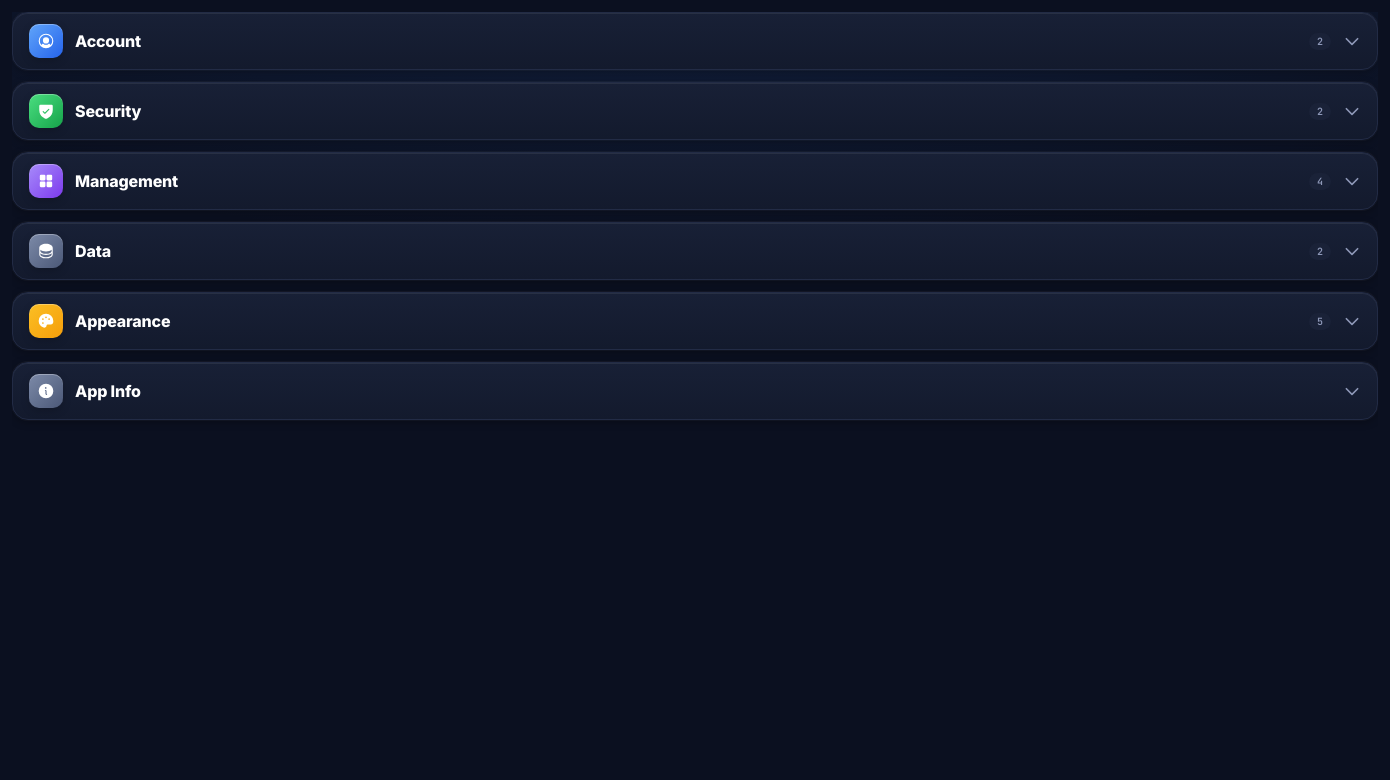
Pengaturan — grup Akun memakai nama zip › English memakai kamus en
What coordinates should you click on to do the following:
click the button "Account 2"
I would click on:
 (46, 41)
Its box is x1=12 y1=12 x2=1378 y2=70.
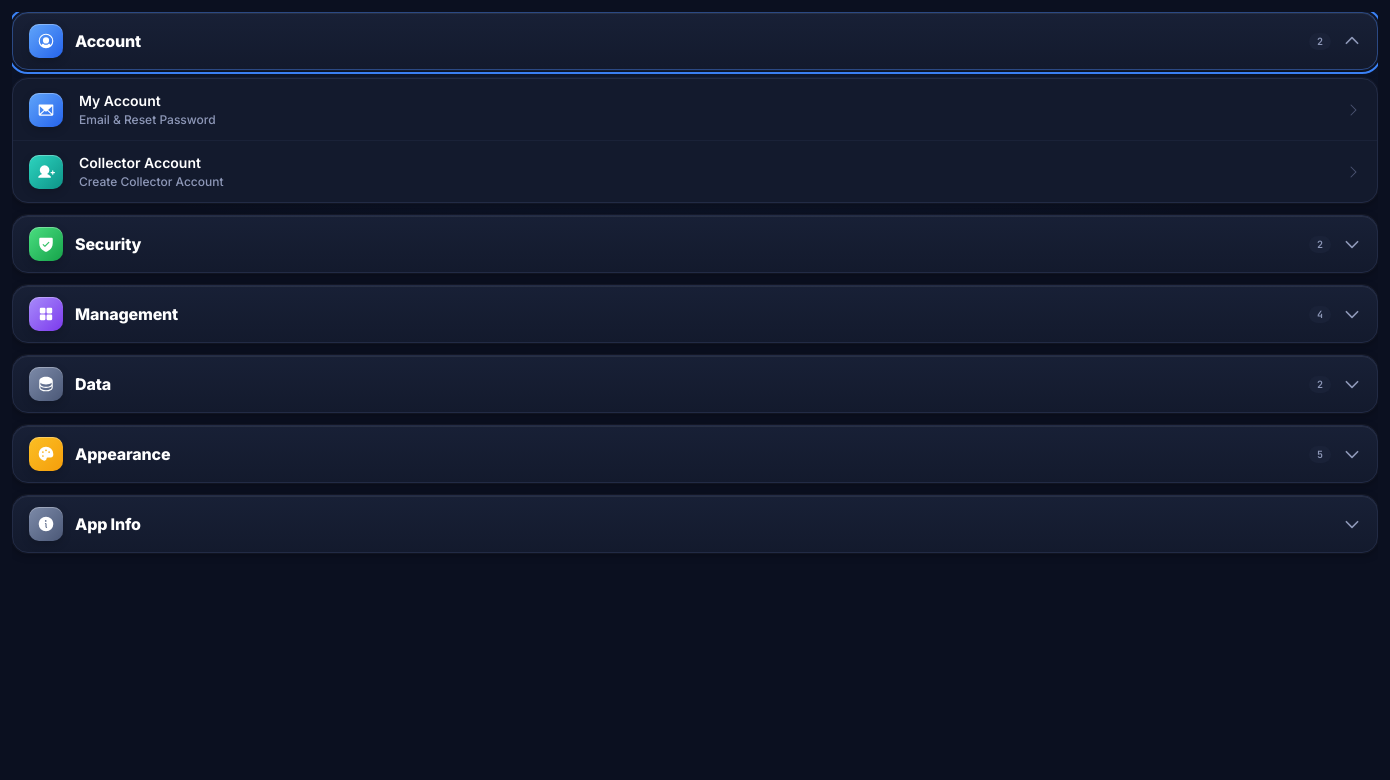
expect the button "My Account Email & Reset Password" is shown: met, box x1=13 y1=79 x2=1377 y2=140
